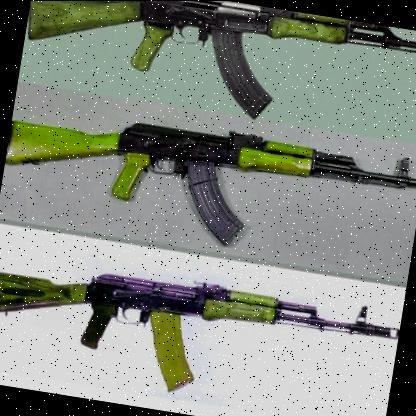rifle: (0, 98, 416, 283), (0, 236, 404, 416), (16, 0, 416, 155)
